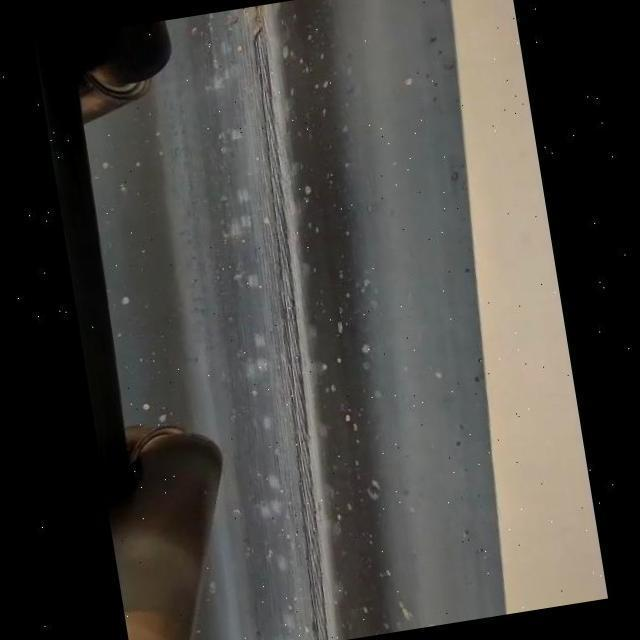Wear: (246, 0, 332, 640)
